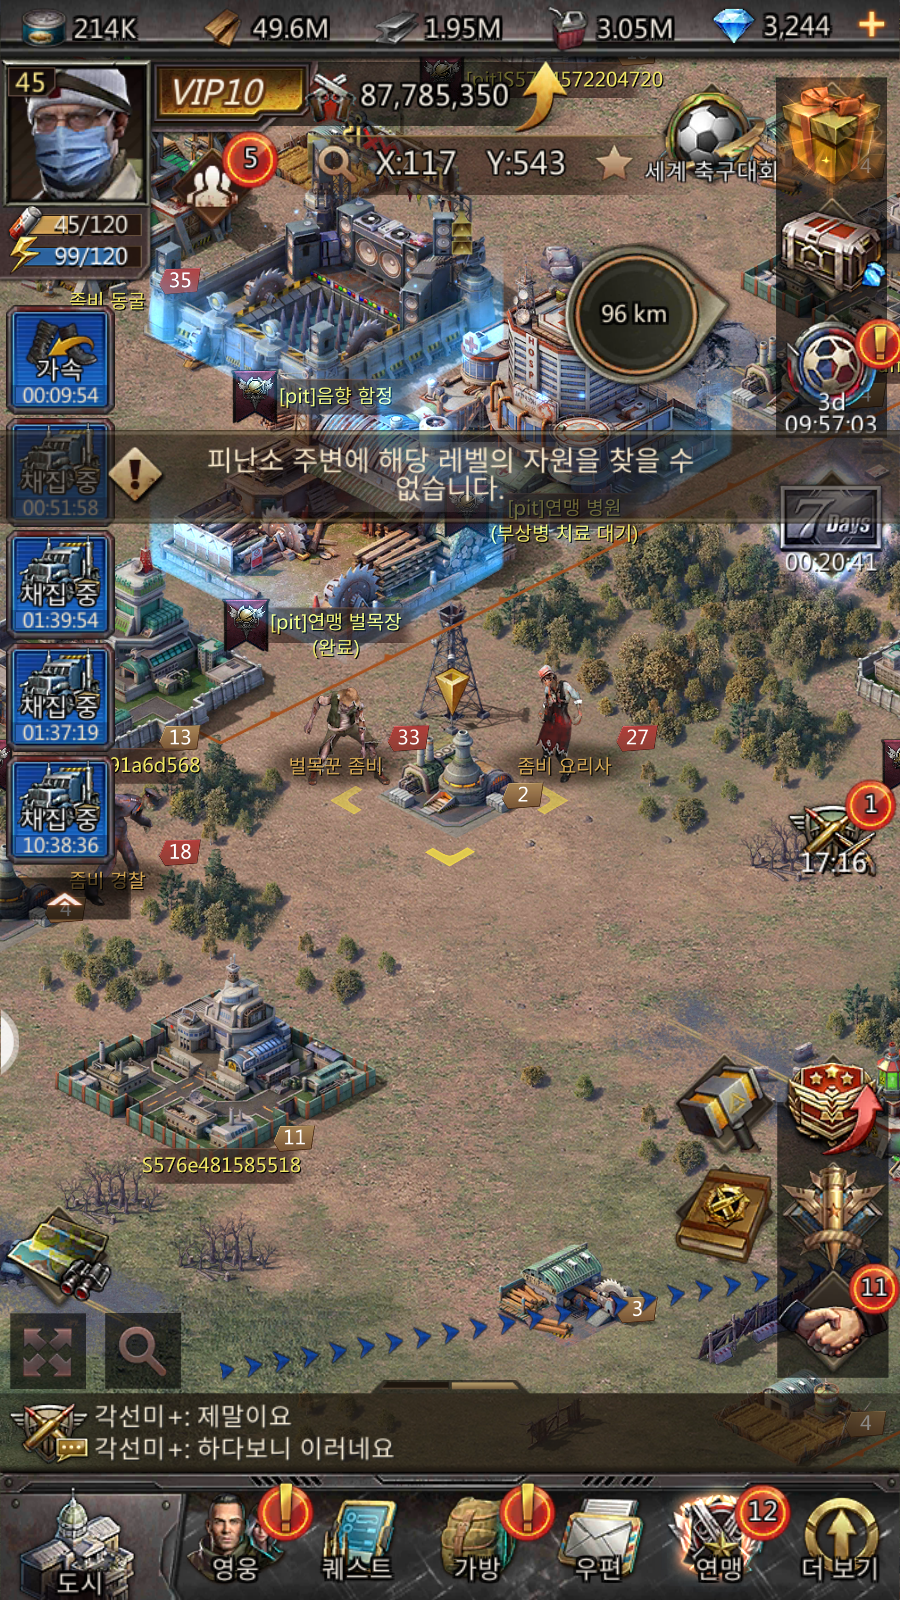city: (7, 1493, 174, 1600)
empty_steel: (313, 655, 591, 880)
not_found_rss: (91, 429, 720, 518)
open_panel: (96, 1305, 193, 1393)
troops_cnt_5: (165, 125, 291, 245)
